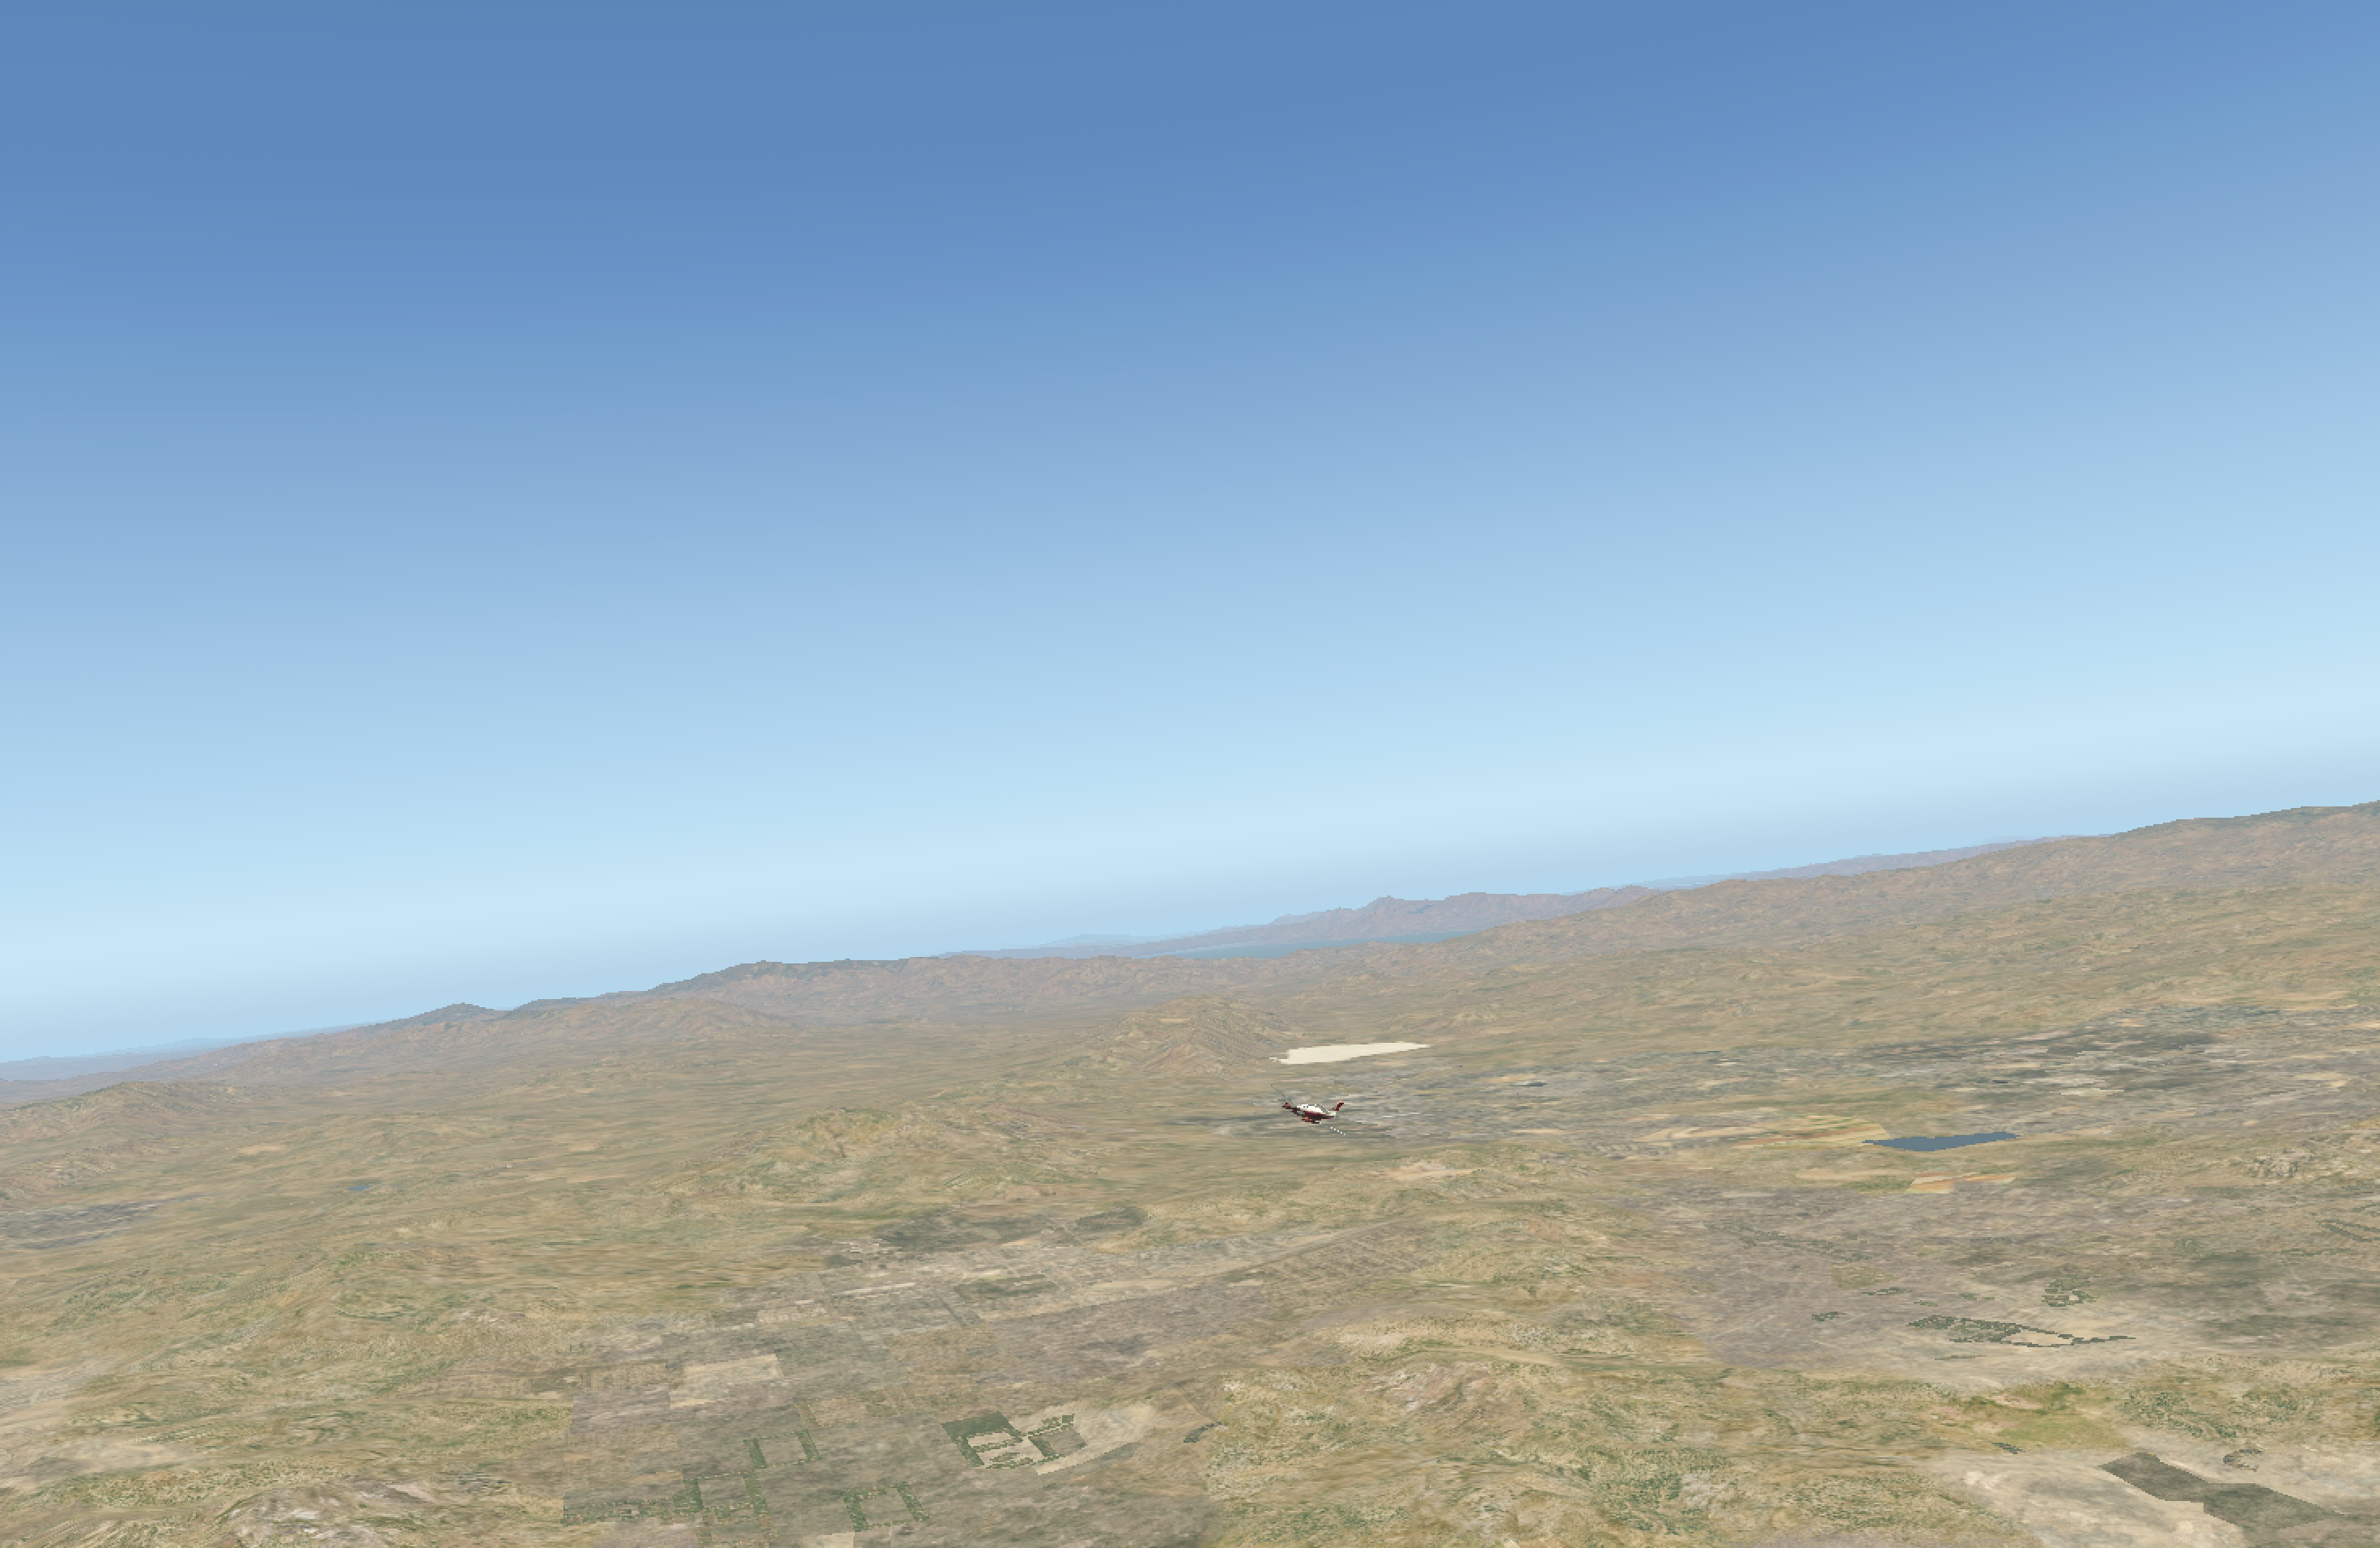aircraft: (1249, 1095, 1357, 1137)
